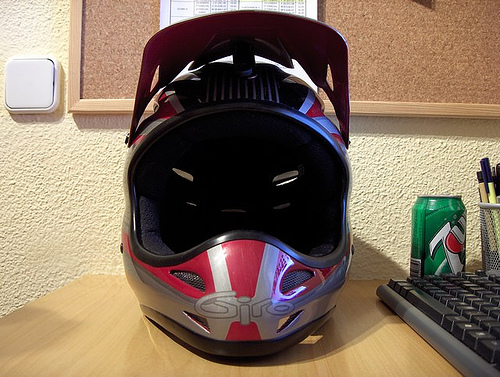helmet: (124, 58, 367, 351)
